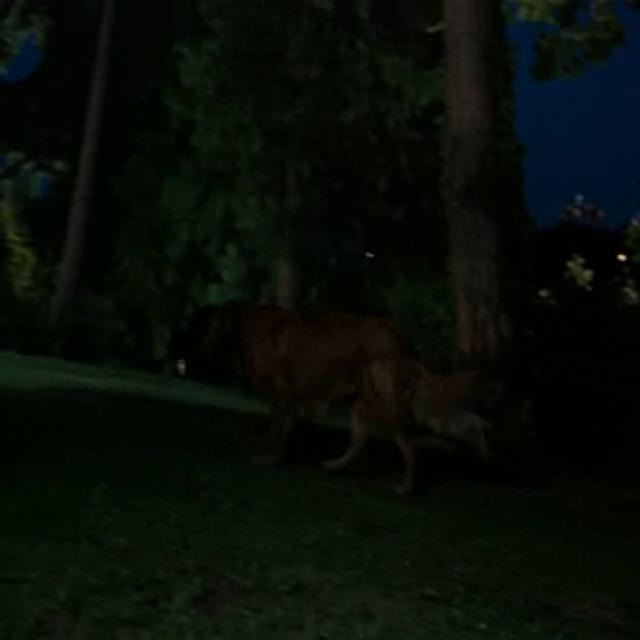dog: (226, 250, 484, 469)
